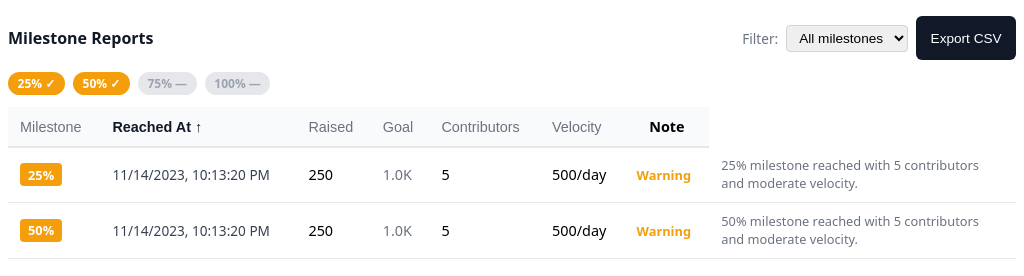
Test case: MilestoneReports — filter › selecting 'All milestones' shows all rows
This screenshot has width=1024, height=276.
Select "25%" in the dropdown with test id "report-filter-select": point(847, 38) x1=786 y1=24 x2=908 y2=52
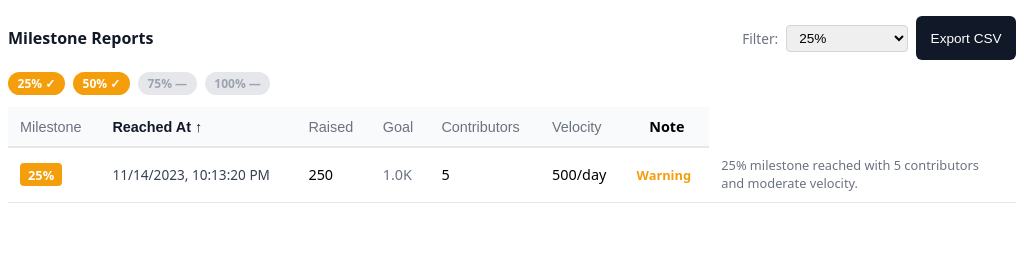
Select "All milestones" in the dropdown with test id "report-filter-select": point(847, 38) x1=786 y1=24 x2=908 y2=52
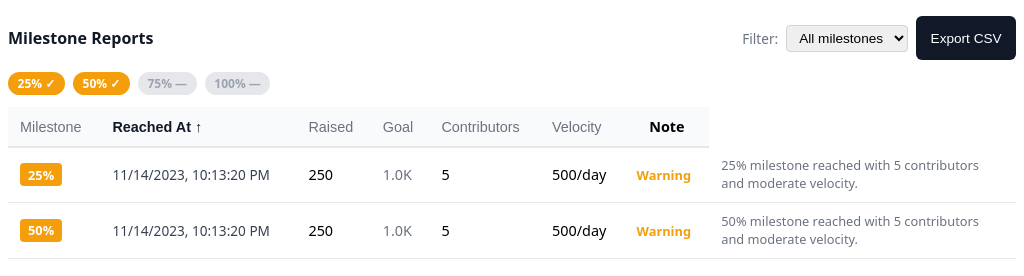
expect the row with test id "report-row-25" is shown: met, box x1=8 y1=147 x2=1016 y2=202
expect the row with test id "report-row-50" is shown: met, box x1=8 y1=202 x2=1016 y2=258
